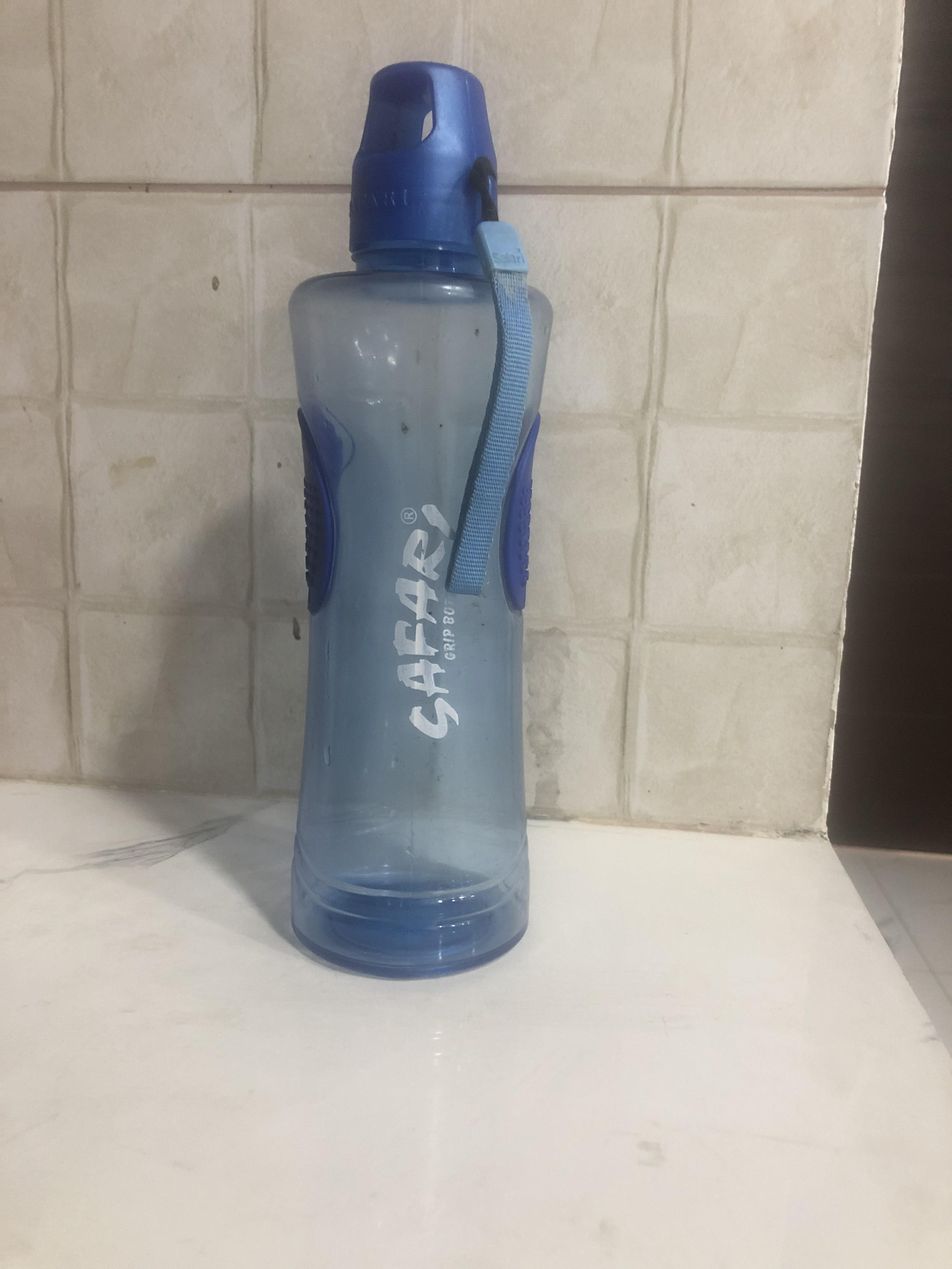gym bottle: (278, 52, 557, 989)
